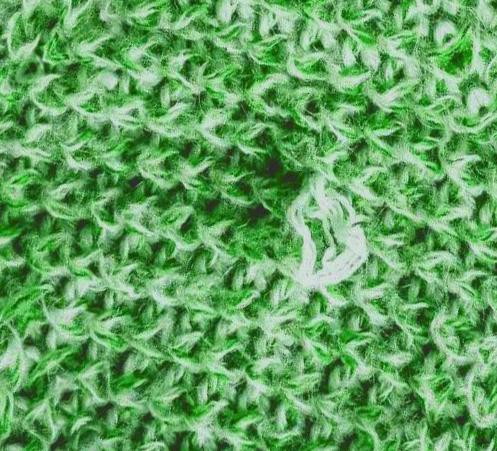snag: (276, 173, 374, 293)
